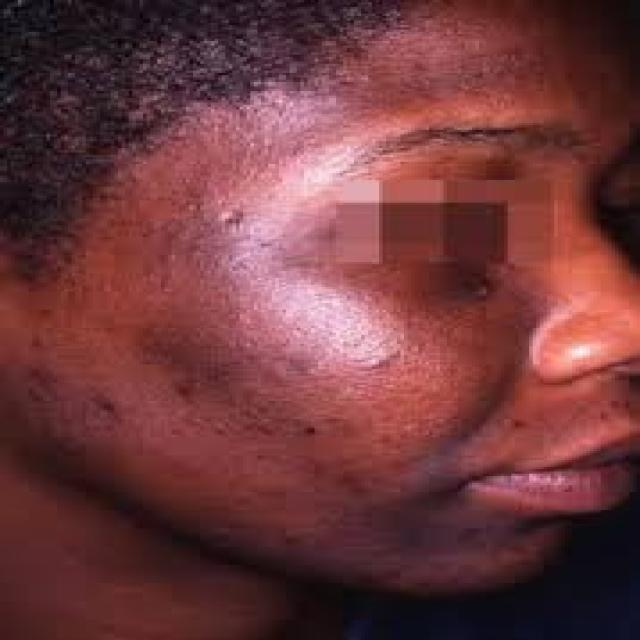pigmentation: (174, 128, 315, 372)
